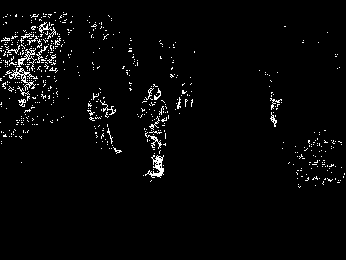person: (137, 82, 169, 180), (88, 86, 122, 155)
